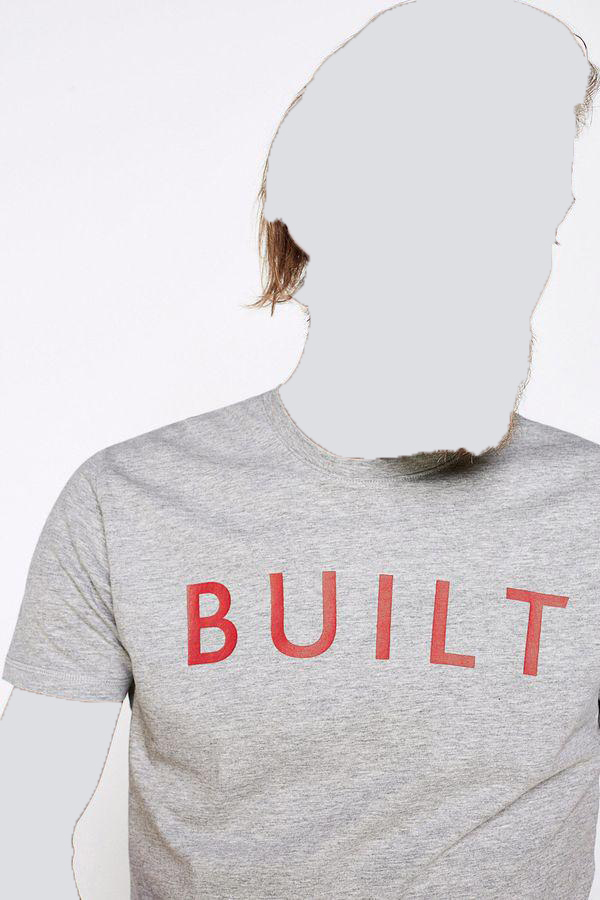teeshirt: (1, 388, 587, 900)
